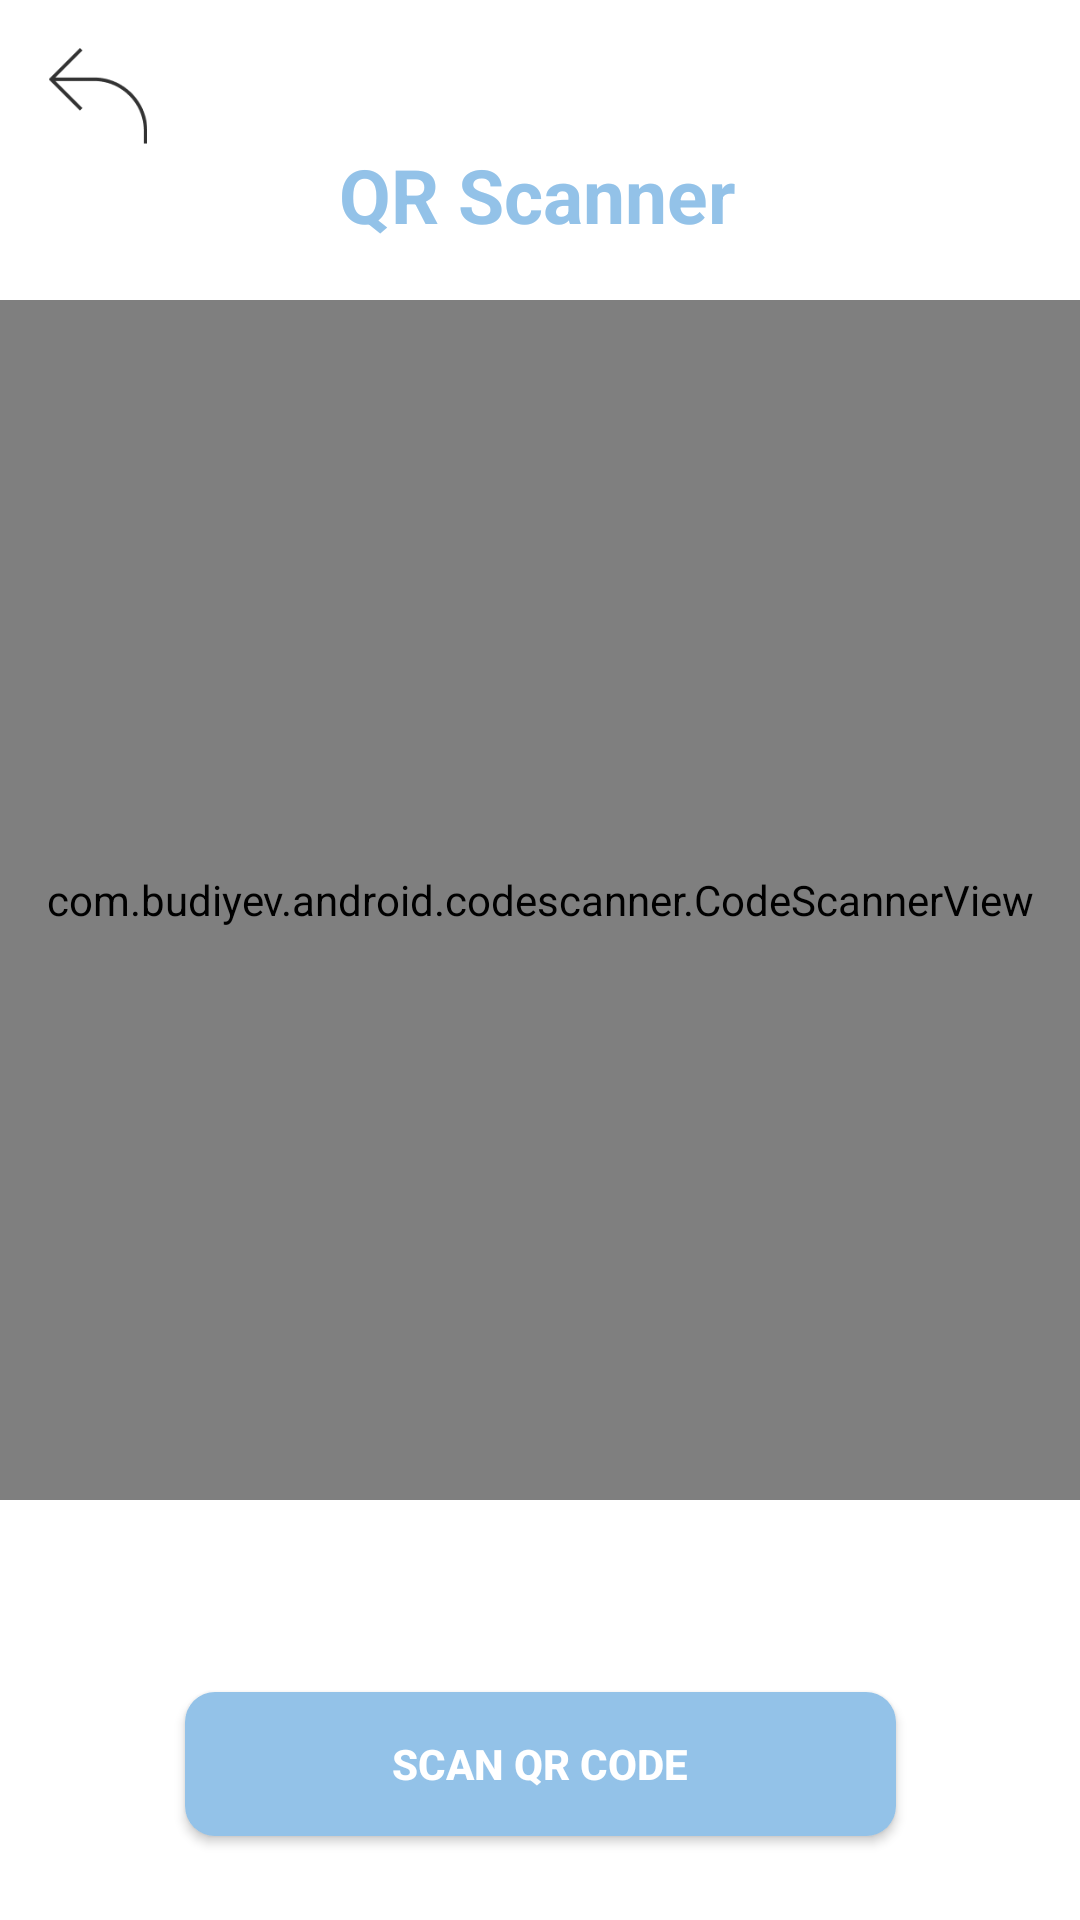

Point at icon controls on the screen. Image size 1080×1920, points as (x=x, y=y).
icback: (x=98, y=96)
